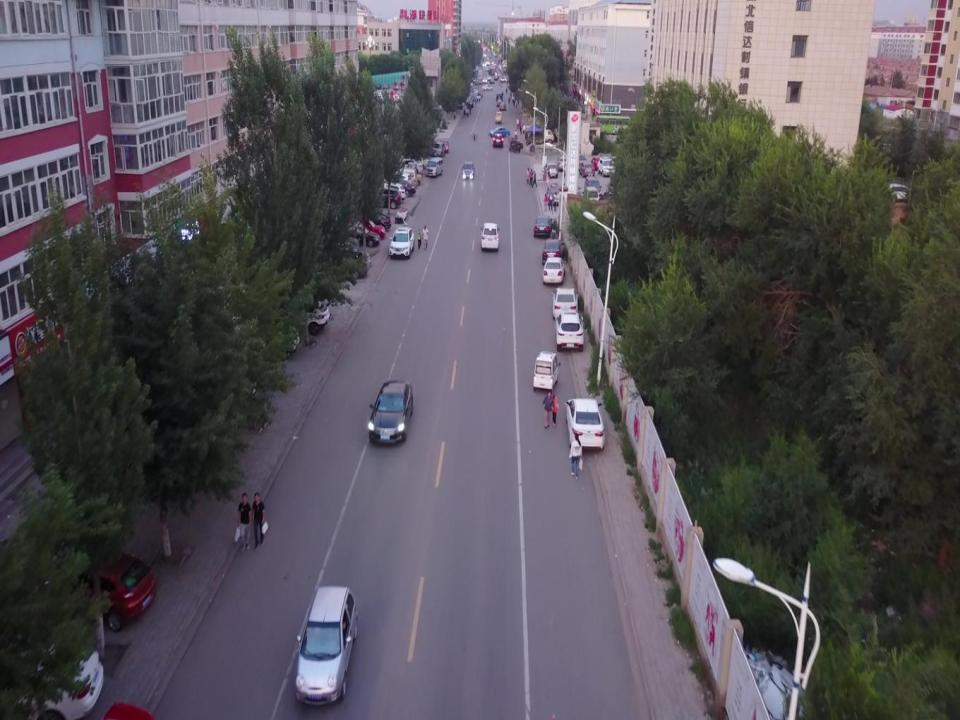car: (295, 581, 357, 702), (11, 639, 107, 717), (76, 548, 156, 628), (367, 378, 414, 445), (563, 396, 607, 449), (286, 298, 330, 334), (327, 248, 369, 278), (336, 223, 381, 249), (554, 312, 585, 348), (339, 218, 388, 240), (350, 208, 392, 232), (382, 168, 418, 195), (363, 185, 402, 208), (552, 284, 579, 317), (389, 225, 414, 258), (541, 256, 564, 285), (372, 180, 407, 198), (480, 221, 499, 250), (541, 238, 563, 260), (423, 157, 446, 178), (534, 213, 552, 239), (381, 176, 411, 191), (596, 157, 615, 177), (584, 175, 601, 197), (583, 186, 600, 204), (460, 161, 475, 180), (490, 126, 511, 137), (578, 164, 594, 177), (590, 156, 604, 170), (432, 140, 446, 154), (547, 161, 558, 177), (492, 132, 503, 148), (556, 156, 567, 170), (440, 138, 449, 154), (577, 152, 587, 166), (495, 111, 502, 123), (498, 101, 505, 109)
truck: (526, 128, 555, 142)
